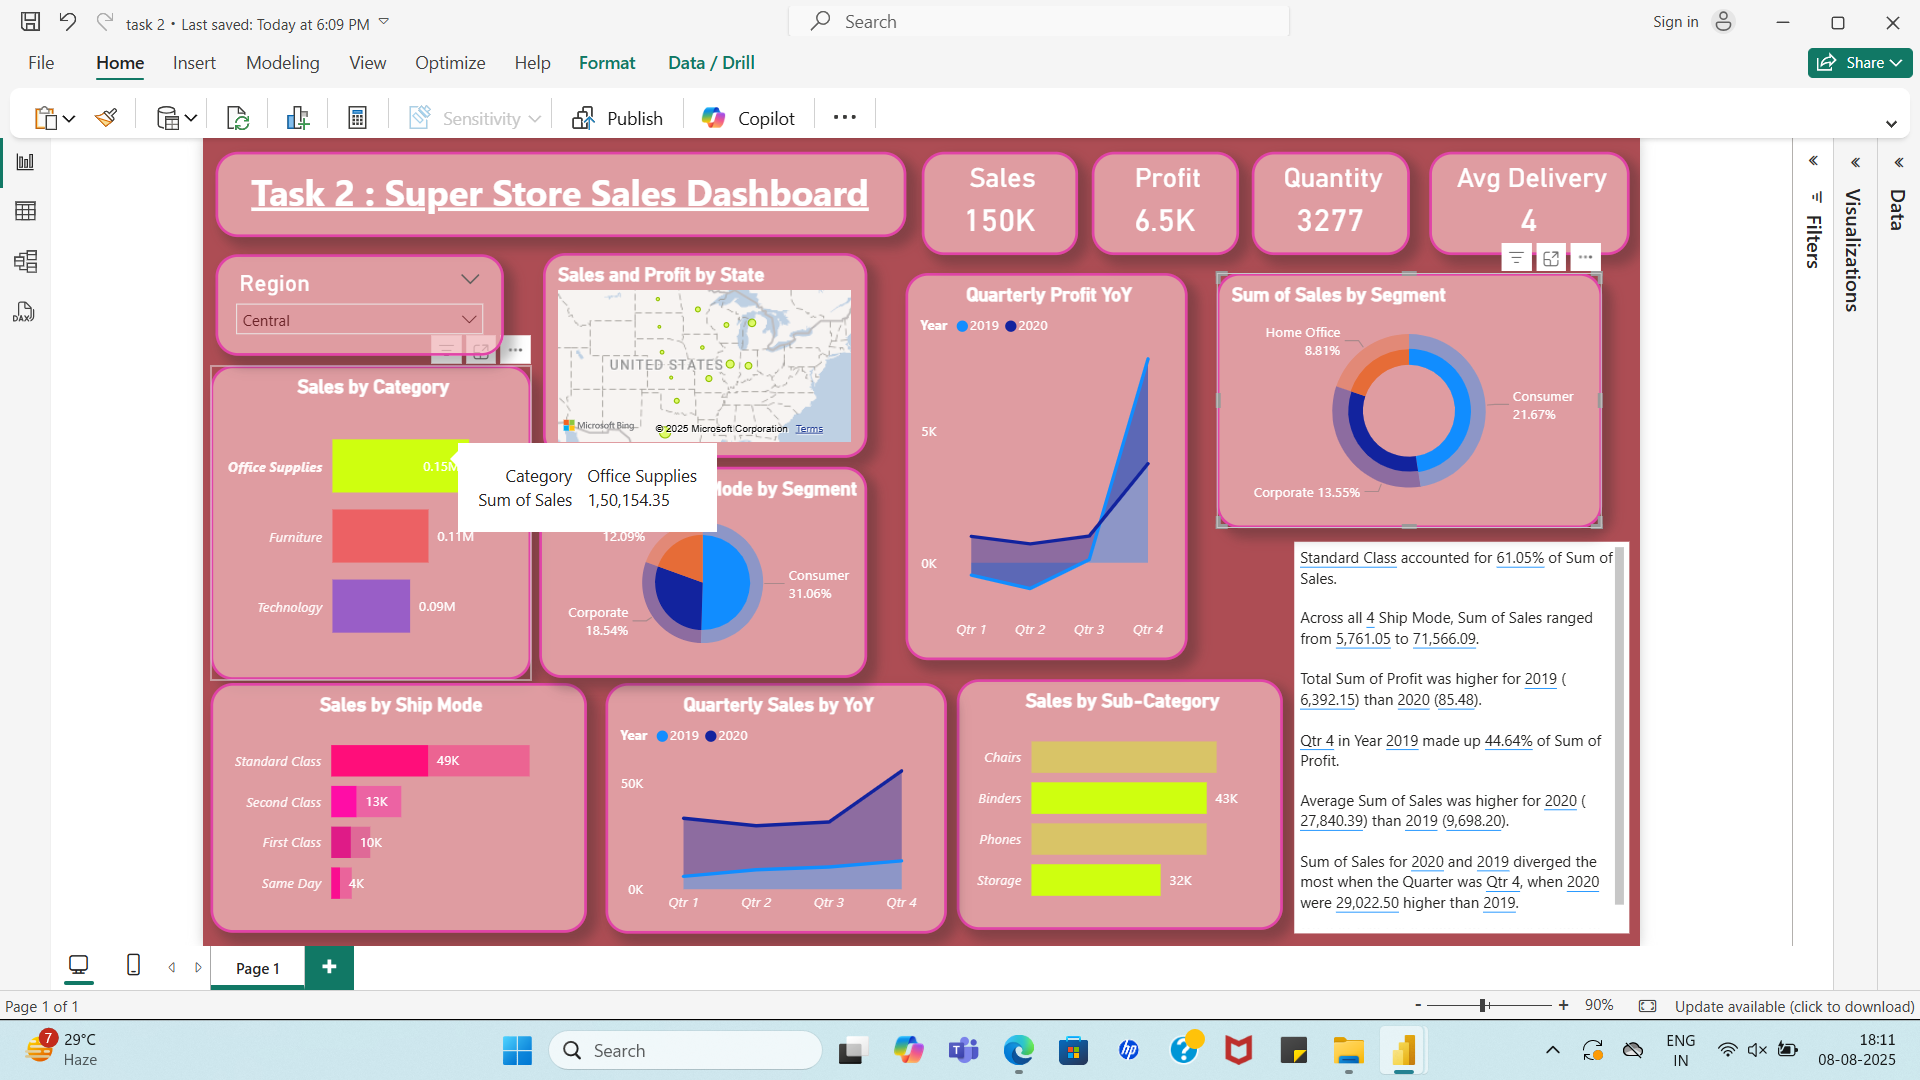

This screenshot's page, from the dashboard's own definition file:
{"tool":"powerbi","page":{"name":"Page 1","canvas":[1280,720],"ordinal":0},"visuals":[{"type":"clusteredBarChart","title":"Sales by Category","fields":{"Category":["SuperStore_Sales_Dataset.Category"],"Y":["Sum(SuperStore_Sales_Dataset.Sales)"]},"box":[6.9,203.1,285.4,279.9],"z":0},{"type":"clusteredBarChart","title":"Sales by Sub-Category","fields":{"Category":["SuperStore_Sales_Dataset.Sub-Category"],"Y":["Sum(SuperStore_Sales_Dataset.Sales)"]},"box":[671.6,482.4,290.5,223],"z":1000},{"type":"clusteredBarChart","title":"Sales by Ship Mode","fields":{"Y":["Sum(SuperStore_Sales_Dataset.Sales)"],"Category":["SuperStore_Sales_Dataset.Ship Mode"]},"box":[6.9,485.8,334.8,222.3],"z":2000},{"type":"stackedAreaChart","title":"Quarterly Sales by YoY","fields":{"Y":["Sum(SuperStore_Sales_Dataset.Sales)"],"Category":["SuperStore_Sales_Dataset.Order Date.Variation.Date Hierarchy.Quarter"],"Series":["SuperStore_Sales_Dataset.Order Date.Variation.Date Hierarchy.Year"]},"box":[358.1,485.1,304.1,223],"z":3000},{"type":"stackedAreaChart","title":"Quarterly Profit YoY","fields":{"Category":["SuperStore_Sales_Dataset.Order Date.Variation.Date Hierarchy.Quarter"],"Series":["SuperStore_Sales_Dataset.Order Date.Variation.Date Hierarchy.Year"],"Y":["Sum(SuperStore_Sales_Dataset.Profit)"]},"box":[625.7,120.3,251.4,344.6],"z":4000},{"type":"map","title":"Sales and Profit by State","fields":{"Category":["SuperStore_Sales_Dataset.State"],"Size":["Sum(SuperStore_Sales_Dataset.Sales)"]},"box":[302.7,102.7,289.2,182.4],"z":5000},{"type":"donutChart","fields":{"Category":["SuperStore_Sales_Dataset.Segment"],"Y":["Sum(SuperStore_Sales_Dataset.Sales)"]},"box":[902.7,120.3,343.2,227],"z":6000},{"type":"pieChart","fields":{"Category":["SuperStore_Sales_Dataset.Segment"],"Y":["CountNonNull(SuperStore_Sales_Dataset.Payment Mode)"]},"box":[300,293.2,291.9,187.8],"z":7000},{"type":"slicer","fields":{"Values":["SuperStore_Sales_Dataset.Region"]},"box":[10.8,104.1,256.8,90.5],"z":8000},{"type":"textbox","box":[10.8,12.2,614.9,75.7],"z":9000},{"type":"card","title":"Sales","fields":{"Values":["Sum(SuperStore_Sales_Dataset.Sales)"]},"box":[640.5,12.2,139.2,91.9],"z":10000},{"type":"card","title":"Profit","fields":{"Values":["Sum(SuperStore_Sales_Dataset.Profit)"]},"box":[791.9,12.2,131.1,91.9],"z":11000},{"type":"card","title":"Quantity","fields":{"Values":["Sum(SuperStore_Sales_Dataset.Quantity)"]},"box":[933.8,12.2,140.5,91.9],"z":12000},{"type":"card","title":"Avg Delivery","fields":{"Values":["Avg(SuperStore_Sales_Dataset.AvgDeliviry)"]},"box":[1091.9,12.2,178.4,91.9],"z":13000},{"type":"textbox","box":[971.6,359.5,298.6,348.6],"z":14000}]}

Visuals, with their boxes on the page's 1280x720 design canvas (x1, y1, x2, y2). These are canvas units, not pixel positions in the 1920x1080 screenshot, which may show the page scaled, cropped or inside an application window:
"Sales by Category" clusteredBarChart: (left=7, top=203, right=292, bottom=483)
"Sales by Sub-Category" clusteredBarChart: (left=672, top=482, right=962, bottom=705)
"Sales by Ship Mode" clusteredBarChart: (left=7, top=486, right=342, bottom=708)
"Quarterly Sales by YoY" stackedAreaChart: (left=358, top=485, right=662, bottom=708)
"Quarterly Profit YoY" stackedAreaChart: (left=626, top=120, right=877, bottom=465)
"Sales and Profit by State" map: (left=303, top=103, right=592, bottom=285)
donutChart - SuperStore_Sales_Dataset.Segment x Sum(SuperStore_Sales_Dataset.Sales): (left=903, top=120, right=1246, bottom=347)
pieChart - SuperStore_Sales_Dataset.Segment x CountNonNull(SuperStore_Sales_Dataset.Payment Mode): (left=300, top=293, right=592, bottom=481)
slicer - SuperStore_Sales_Dataset.Region: (left=11, top=104, right=268, bottom=195)
textbox: (left=11, top=12, right=626, bottom=88)
"Sales" card: (left=640, top=12, right=780, bottom=104)
"Profit" card: (left=792, top=12, right=923, bottom=104)
"Quantity" card: (left=934, top=12, right=1074, bottom=104)
"Avg Delivery" card: (left=1092, top=12, right=1270, bottom=104)
textbox: (left=972, top=360, right=1270, bottom=708)
